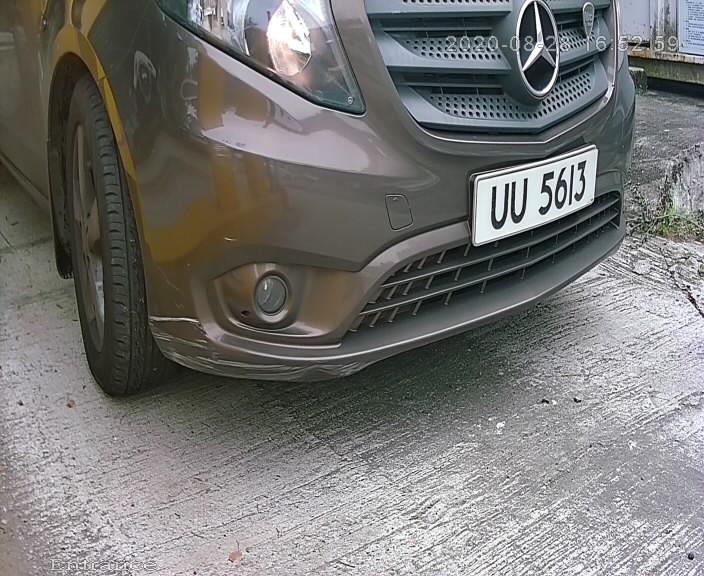License Plate: (466, 142, 604, 253)
